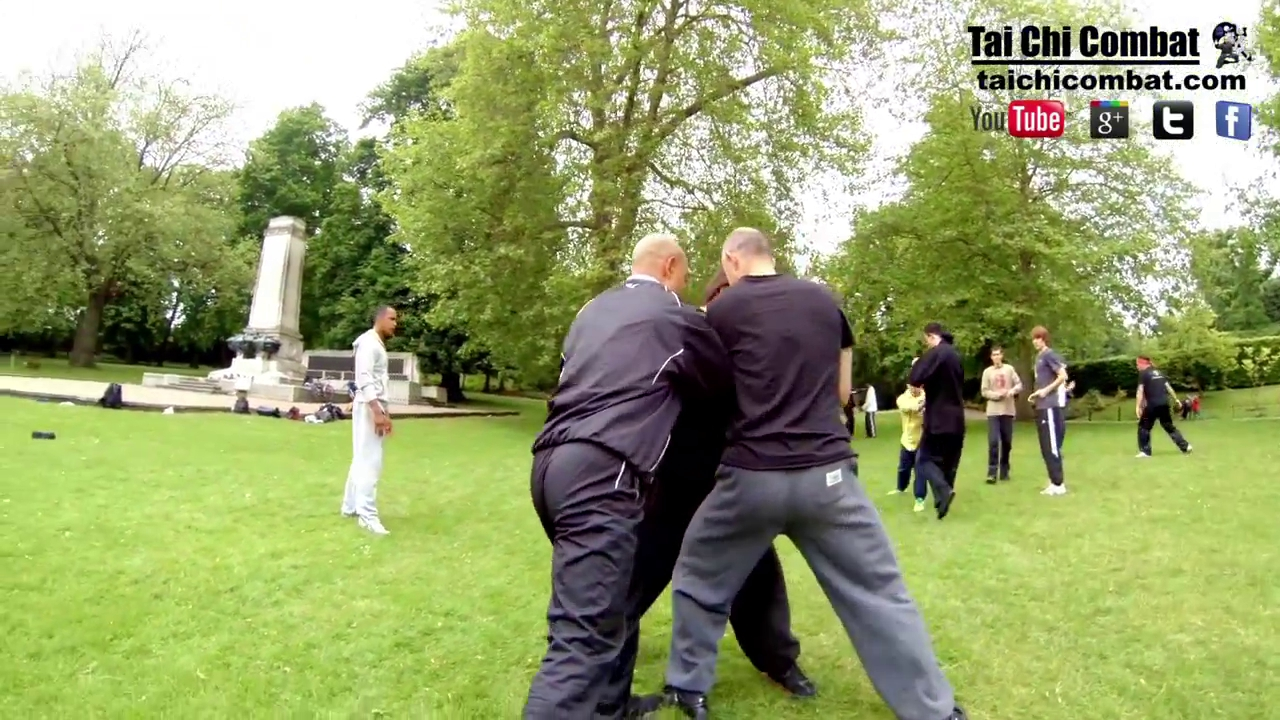person: (666, 227, 963, 720), (523, 233, 691, 720), (343, 306, 398, 539)
